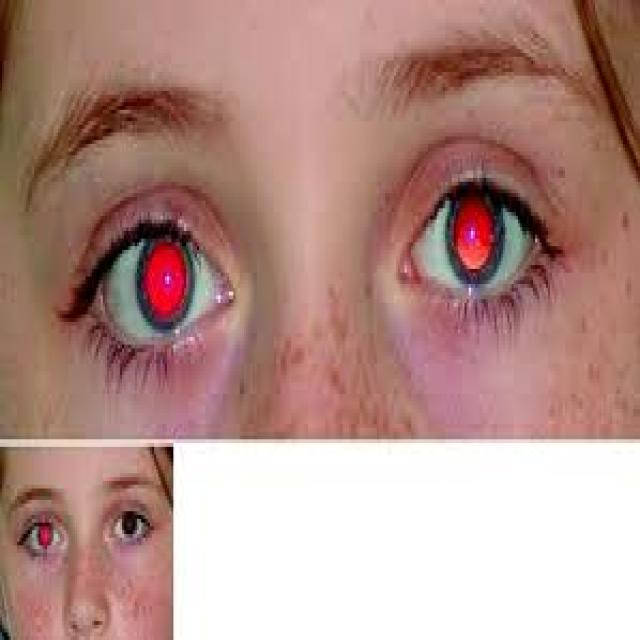reflexo-normal: (102, 218, 214, 336), (431, 178, 532, 302), (26, 494, 64, 569)
